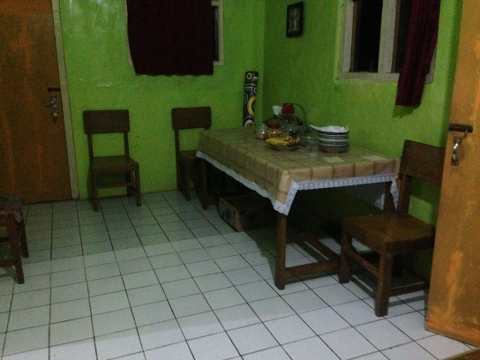kursi: (339, 139, 443, 315), (83, 109, 141, 213)
meja: (196, 124, 401, 290)
